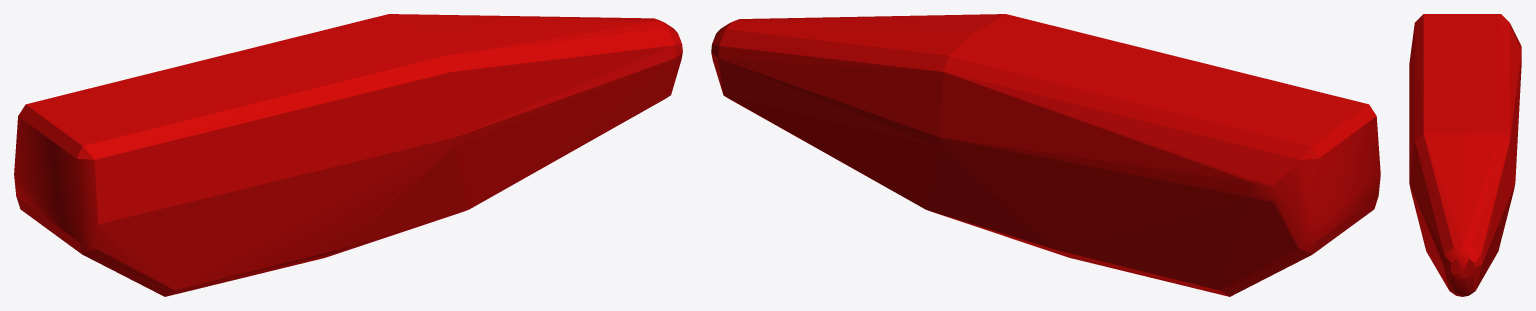
Rendered from blaster_gun_collision.dae.
3 views of the same model, side by side, from view 1: azimuth 30°, elevation 25°; view 2: azimuth 150°, elevation 25°; view 3: azimuth 270°, elevation 25° (orthographic). The views are drawn at different scales.
Parts seen in each view (by area): view 1: blaster_gun_collision; view 2: blaster_gun_collision; view 3: blaster_gun_collision.
Part boxes in pixels (x1,y1,x2,y2): blaster_gun_collision: (14,14,682,296); blaster_gun_collision: (711,14,1380,296); blaster_gun_collision: (1409,14,1521,296).
Size of the model in its own units: 0.2485 by 0.0568 by 0.0665.
